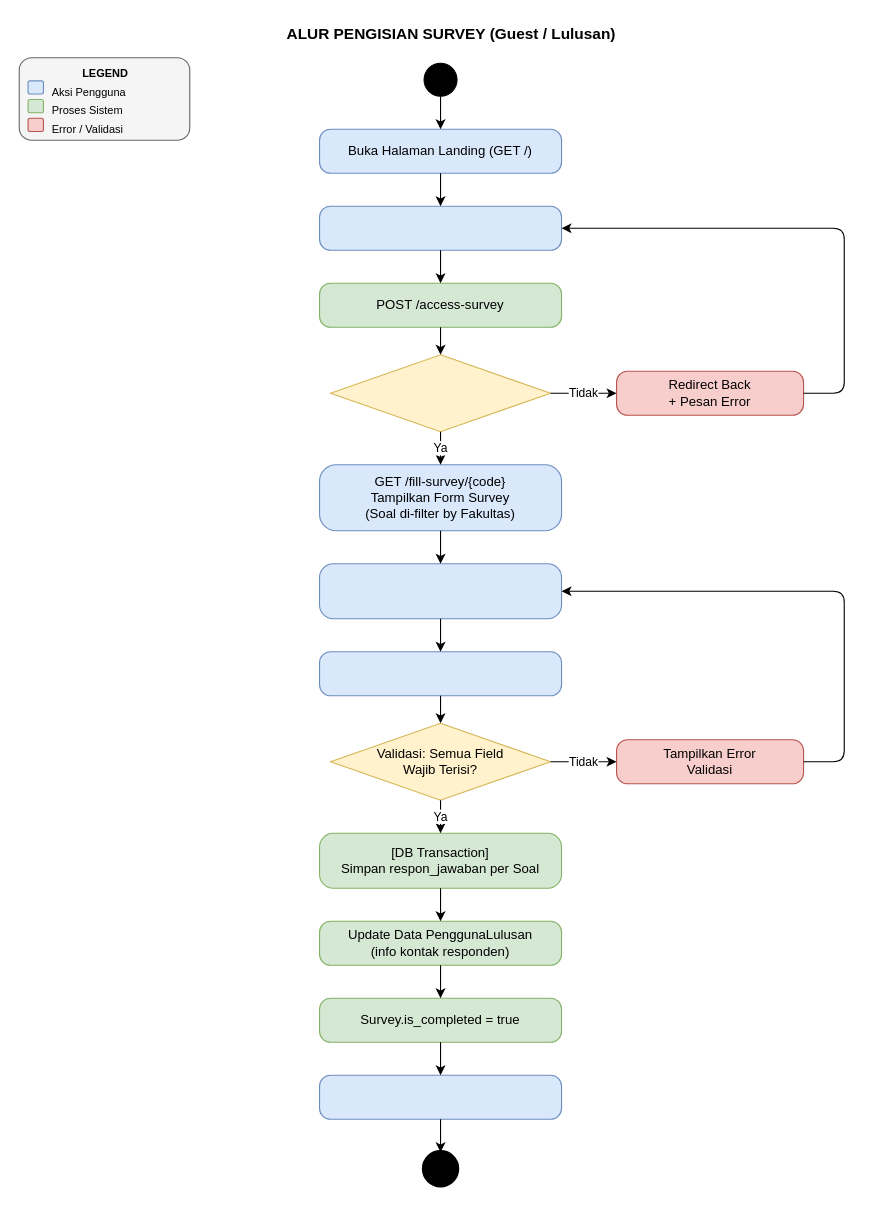
Some shapes in this 872 by 1206 pixel diagram are drawn without their labels. The centre of each missing label's shape, as x and y in pixels:
"Access Code Valid? & Survey Belum Selesai?" belongs at [440,393].
"Input Access Code (8 karakter)" belongs at [440,227].
"Isi Jawaban Pertanyaan (Multiple Choice / Essay / Rating)" belongs at [440,591].
"Redirect Landing + Pesan Sukses (Terima kasih telah mengisi...)" belongs at [440,1096].
"Submit Survey POST /submit-survey/{code}" belongs at [440,673].
